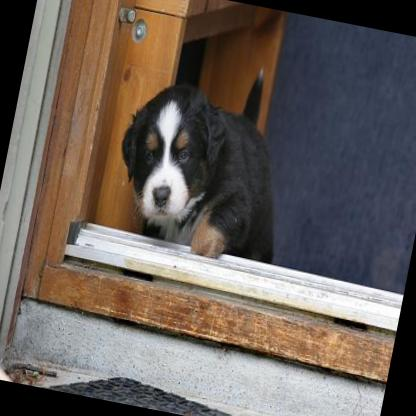Appenzeller: (101, 43, 306, 269)
